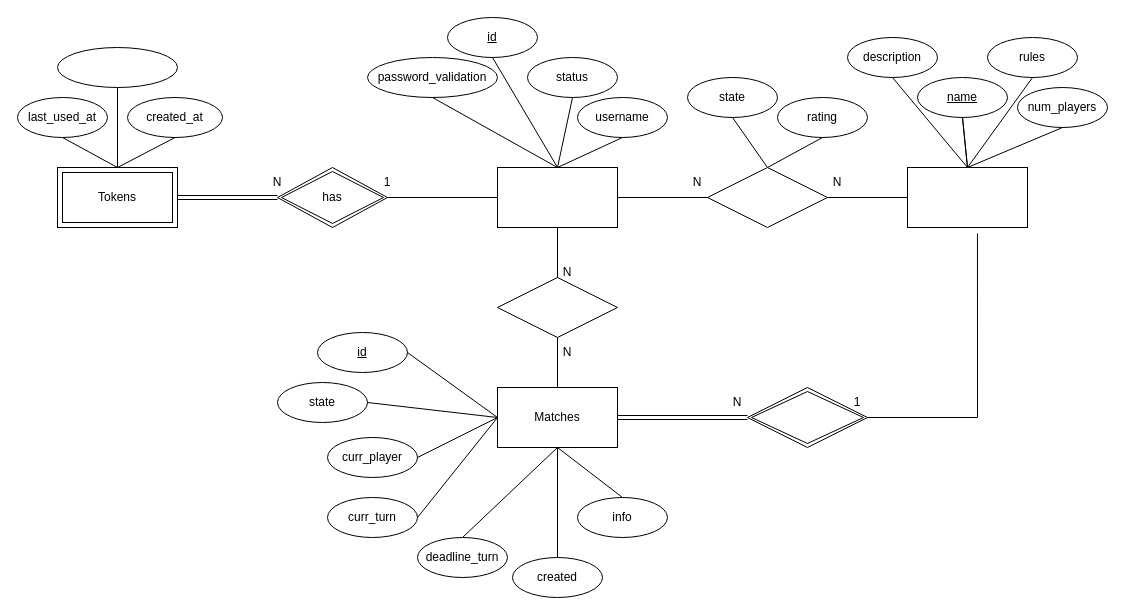
The diagram is 1125 pixels wide and 615 high, and some of its shapes have lost their labels. The shapes that lost their labels are listed below. From the top down, each one's centre as x and y in pixels, then its label:
point (117, 67): token_validation
point (557, 197): Users
point (767, 197): statistics
point (967, 197): Games
point (557, 307): participates
point (807, 417): of
